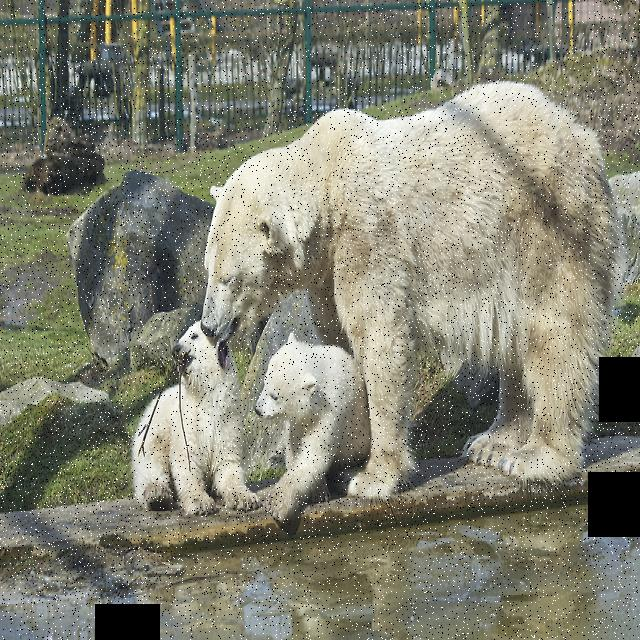Bear: (203, 82, 622, 487), (126, 323, 258, 520), (250, 332, 372, 519)
